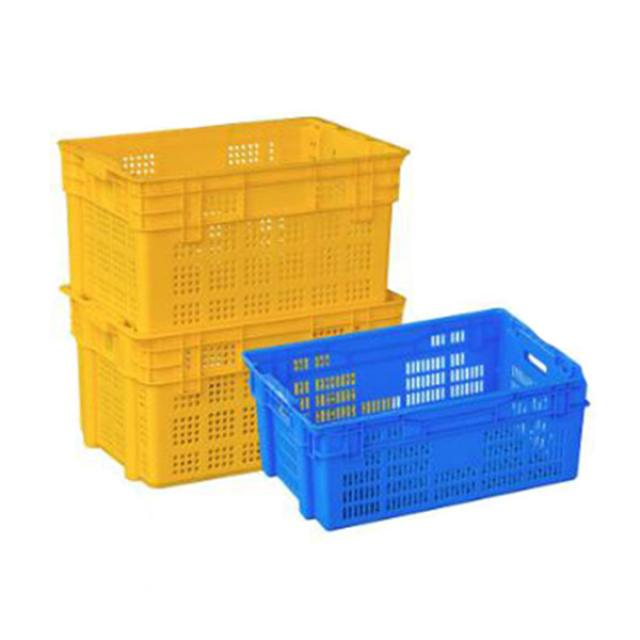basket: (54, 114, 408, 490), (239, 286, 606, 542)
